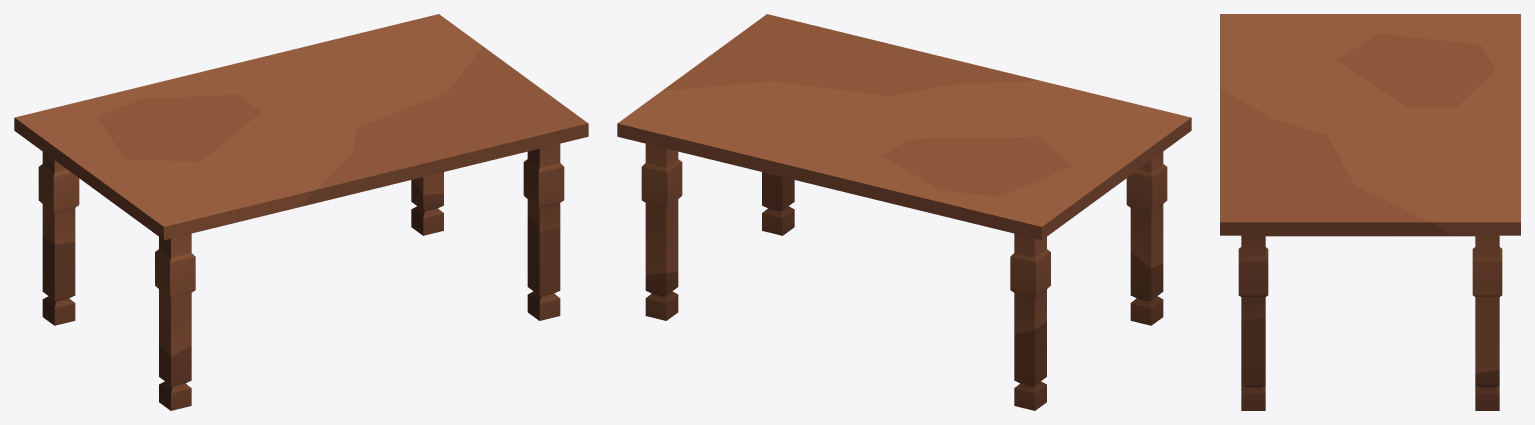
File: AI_Prop_Table_01.fbx
3 views of the same model, side by side, from view 1: azimuth 30°, elevation 25°; view 2: azimuth 150°, elevation 25°; view 3: azimuth 270°, elevation 25° (orthographic).
Visible parts, largest first — view 1: AI_Prop_Table_01; view 2: AI_Prop_Table_01; view 3: AI_Prop_Table_01.
Boxes of the visible parts, bbox=[...] form: AI_Prop_Table_01: bbox=[14, 14, 588, 410]; AI_Prop_Table_01: bbox=[617, 14, 1191, 410]; AI_Prop_Table_01: bbox=[1220, 14, 1520, 410].
Bounding box in the file's own units: 3.45 × 1.52 × 2.11.
